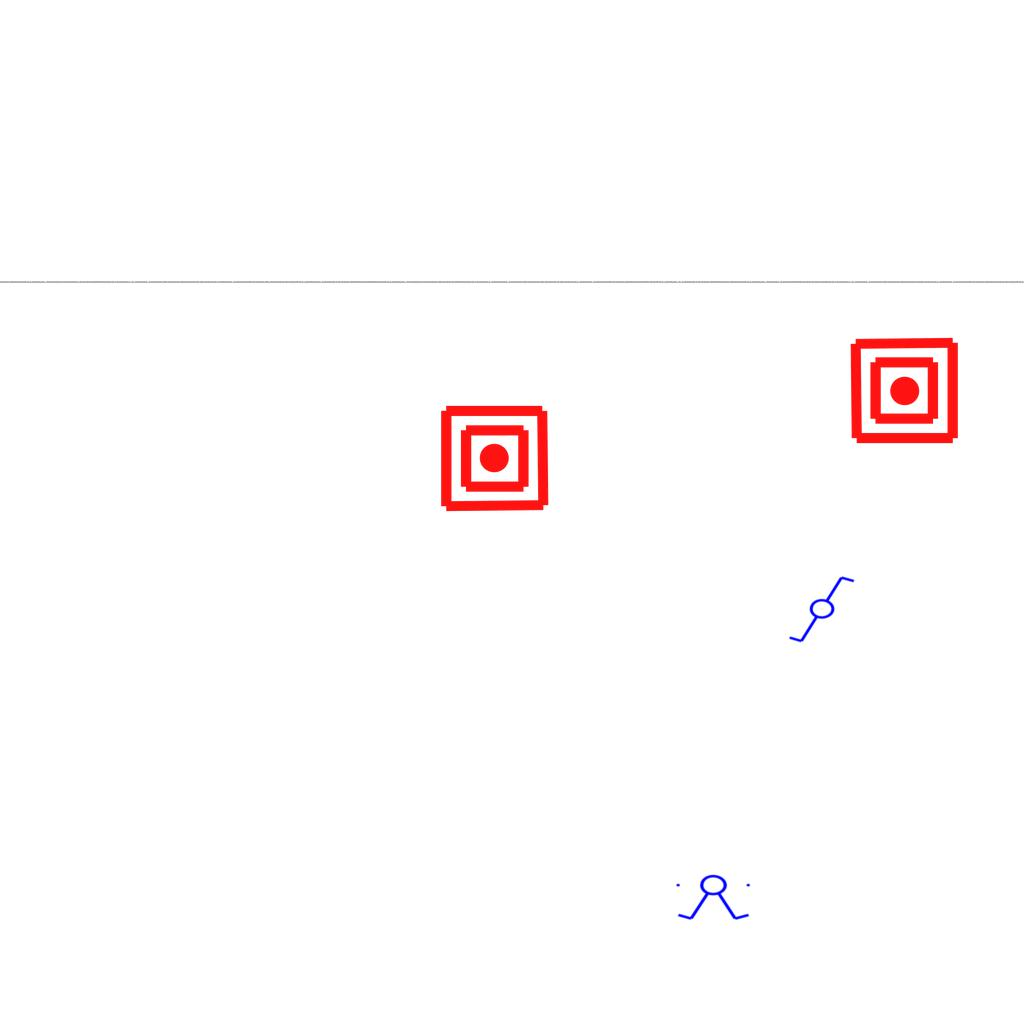NAM-Nichtautomatischer_Melder: (848, 334, 961, 447), (438, 402, 551, 515)
Serienschalter: (672, 874, 756, 922)
Wechselschalter: (787, 574, 865, 646)
